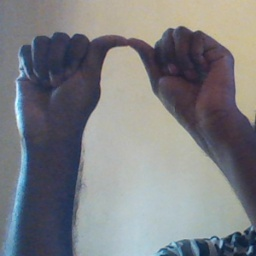A: (14, 25, 238, 136)
